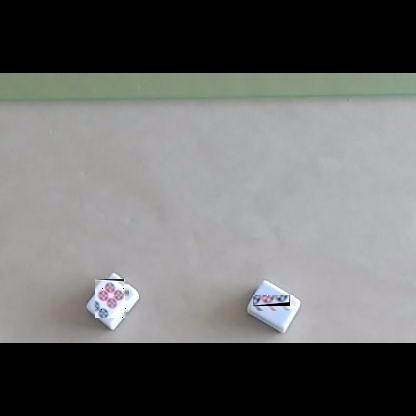3p: (254, 296, 295, 311)
6p: (96, 279, 129, 318)
